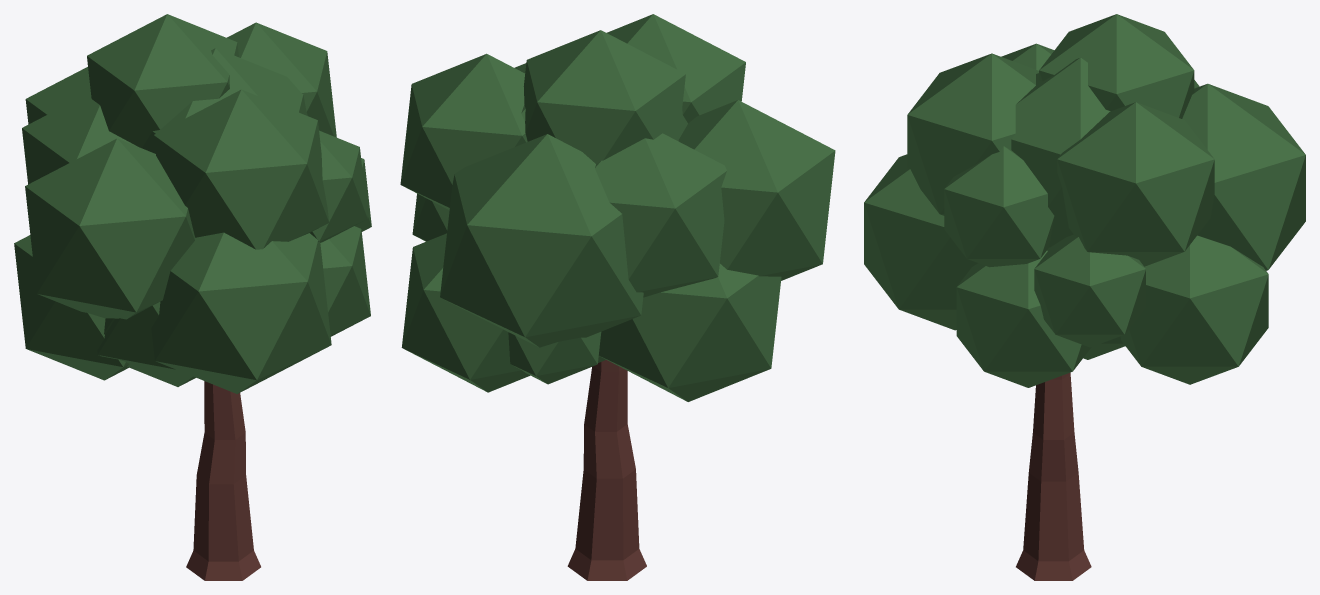
File: MTree.fbx
The picture shows the model from 3 angles, left to right: view 1: azimuth 30°, elevation 25°; view 2: azimuth 150°, elevation 25°; view 3: azimuth 270°, elevation 25°; orthographic projection. The views are drawn at different scales.
Visible parts, largest first — view 1: Circle.004; view 2: Circle.004; view 3: Circle.004.
Part boxes in pixels (x1,y1,x2,y2): Circle.004: [14, 14, 371, 580]; Circle.004: [400, 14, 835, 580]; Circle.004: [864, 14, 1305, 580].
Bounding box in the file's own units: 1870 × 2706 × 2004.
